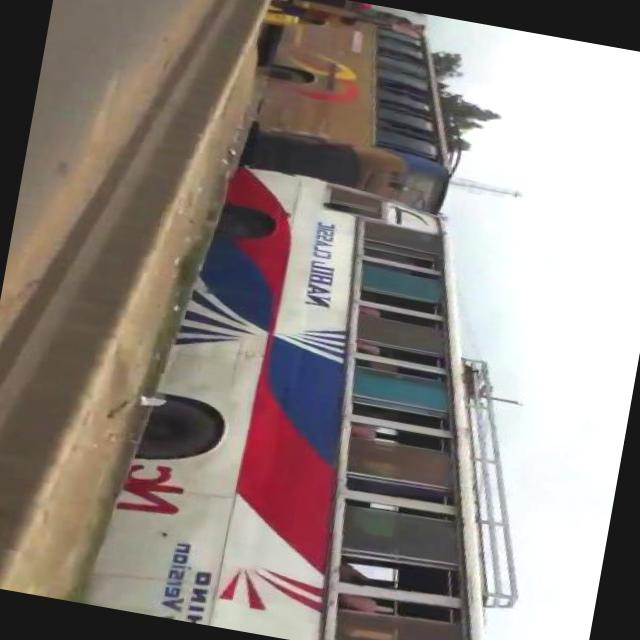bus: (86, 148, 588, 640), (226, 0, 488, 216)
